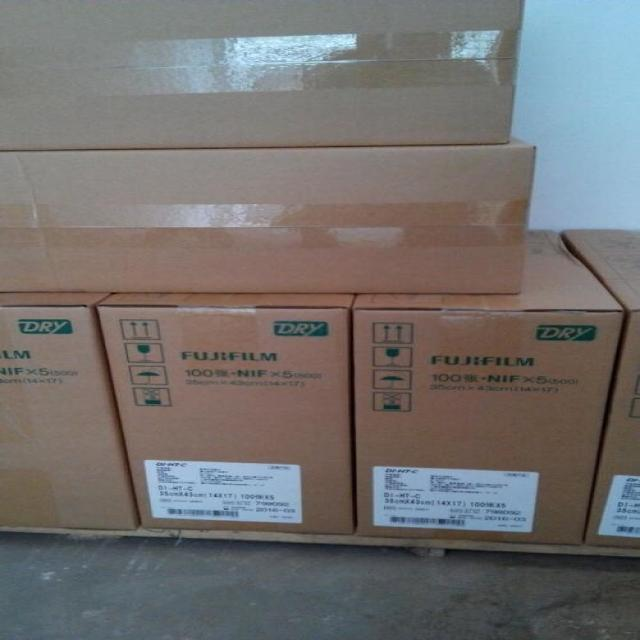box: (351, 230, 627, 546), (0, 135, 536, 294), (95, 294, 356, 535), (0, 293, 138, 531), (561, 229, 640, 549)
